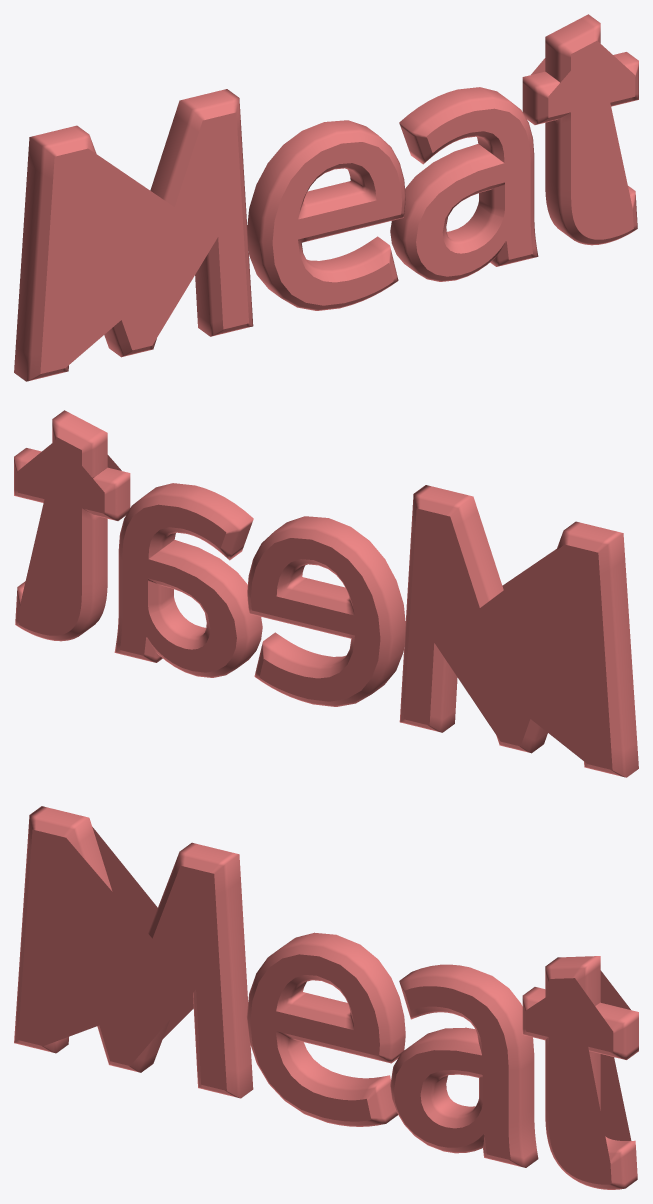
Rendered from Meat.fbx.
The picture shows the model from 3 angles, top to bottom: view 1: azimuth 30°, elevation 25°; view 2: azimuth 150°, elevation 25°; view 3: azimuth 330°, elevation 25°; orthographic projection.
Parts seen in each view (by area): view 1: bevelPolygon12, bevelPolygon36, bevelPolygon35, bevelPolygon13; view 2: bevelPolygon12, bevelPolygon36, bevelPolygon35, bevelPolygon13; view 3: bevelPolygon12, bevelPolygon36, bevelPolygon35, bevelPolygon13.
Boxes of the visible parts, left/top/right/bottom form: bevelPolygon12: left=14, top=89, right=253, bottom=381; bevelPolygon36: left=247, top=120, right=405, bottom=310; bevelPolygon35: left=390, top=87, right=538, bottom=281; bevelPolygon13: left=522, top=14, right=638, bottom=245; bevelPolygon12: left=399, top=485, right=638, bottom=777; bevelPolygon36: left=247, top=516, right=405, bottom=706; bevelPolygon35: left=114, top=483, right=262, bottom=677; bevelPolygon13: left=14, top=410, right=130, bottom=641; bevelPolygon12: left=14, top=806, right=253, bottom=1098; bevelPolygon36: left=246, top=932, right=405, bottom=1126; bevelPolygon35: left=390, top=964, right=538, bottom=1167; bevelPolygon13: left=522, top=956, right=638, bottom=1189.
Bounding box in the file's own units: 7.18 × 2.64 × 0.45.
